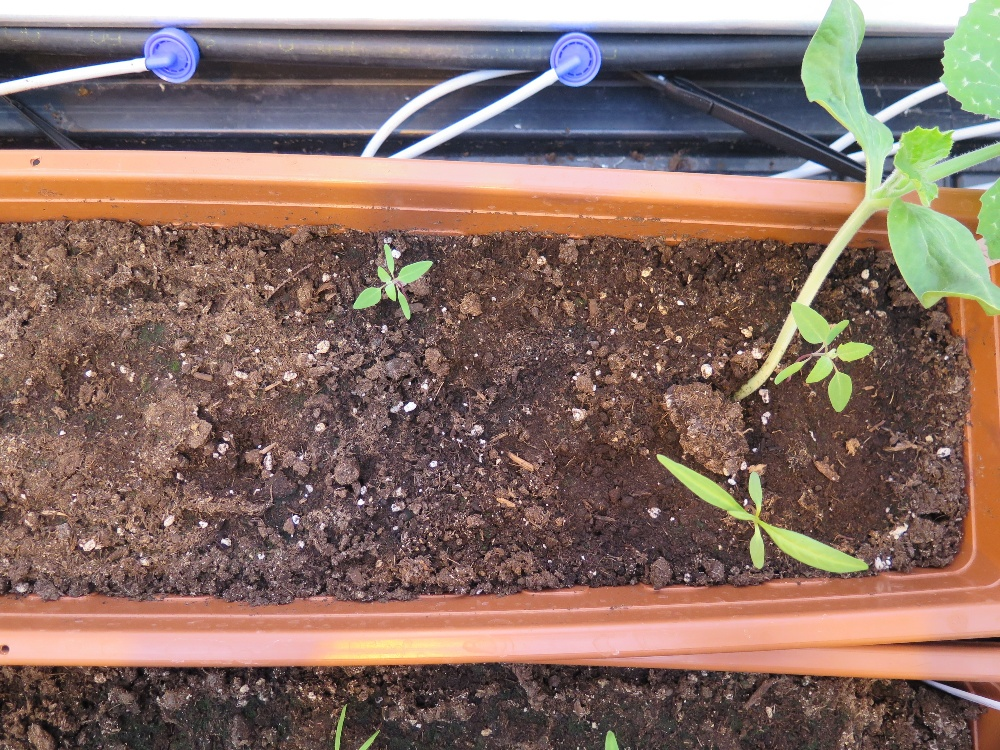weed: (655, 452, 870, 575), (351, 242, 434, 323)
